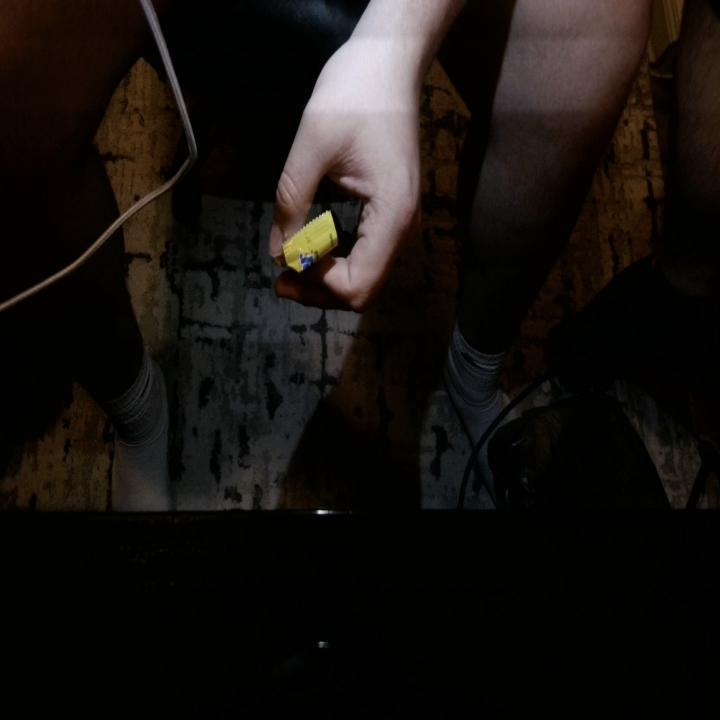Butter Finger: (264, 190, 358, 289)
